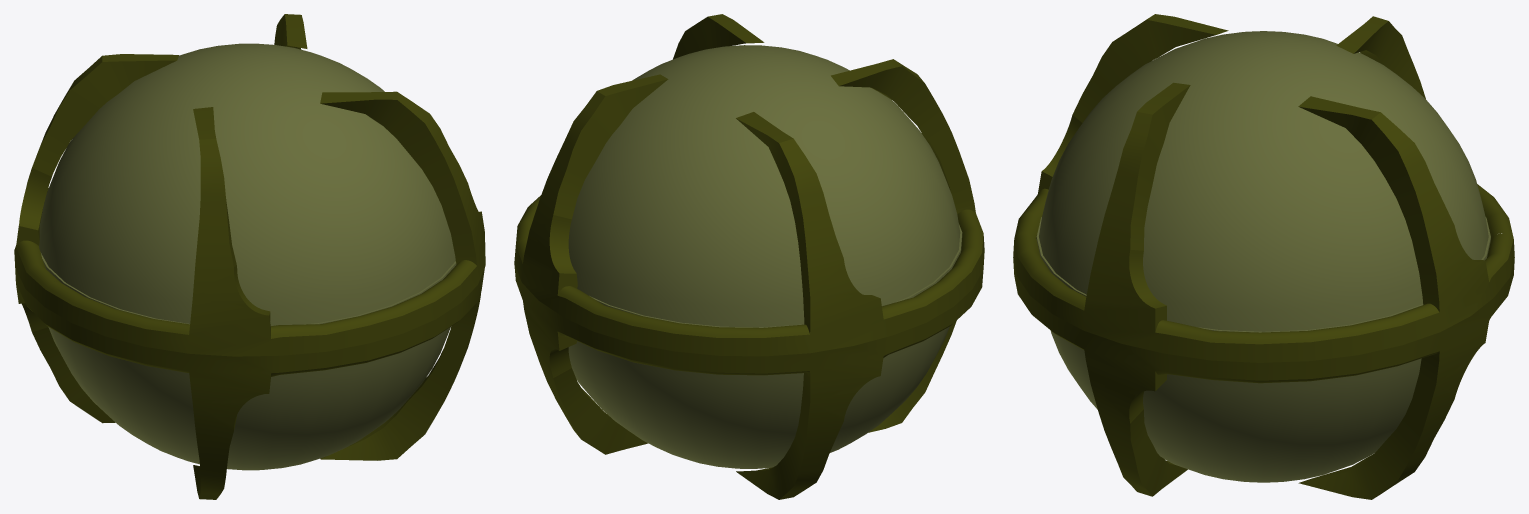
The model's file is 240503_uxo_01.gltf.
The picture shows the model from 3 angles, left to right: view 1: azimuth 30°, elevation 25°; view 2: azimuth 150°, elevation 25°; view 3: azimuth 270°, elevation 25°; orthographic projection. The views are drawn at different scales.
Parts seen in each view (by area): view 1: Sphere, Sphere006; view 2: Sphere, Sphere006; view 3: Sphere, Sphere006.
Part boxes in pixels (x1=…): Sphere: x1=39, y1=43, x2=456, y2=470; Sphere006: x1=14, y1=14, x2=485, y2=499; Sphere: x1=568, y1=45, x2=962, y2=468; Sphere006: x1=514, y1=14, x2=984, y2=499; Sphere: x1=1036, y1=31, x2=1490, y2=482; Sphere006: x1=1013, y1=14, x2=1514, y2=499.
Bounding box in the file's own units: 1.1 × 0.9908 × 1.1.
